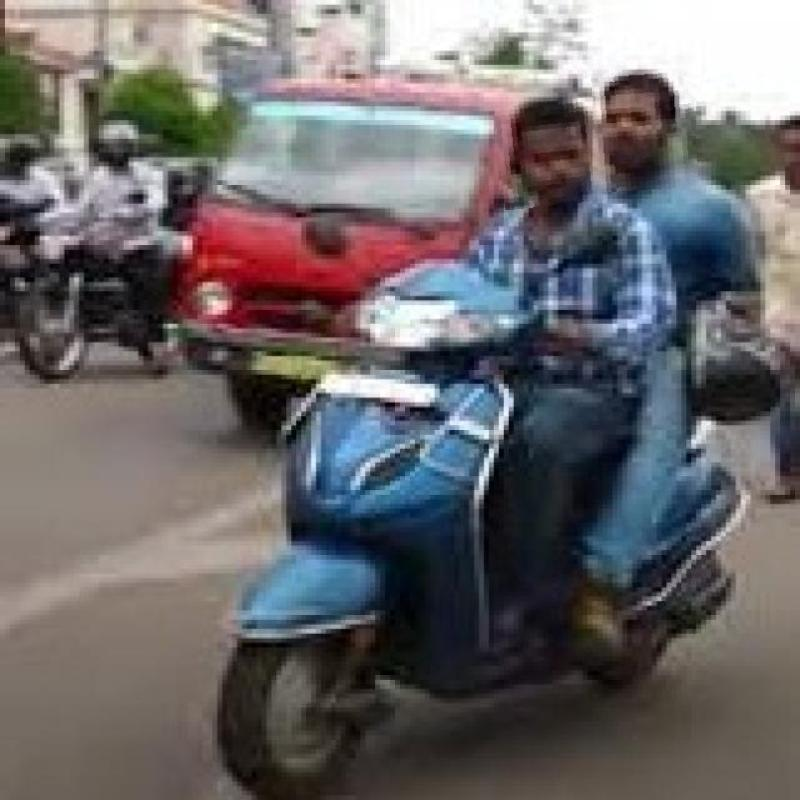nohelmet: (593, 68, 697, 190), (496, 100, 593, 208)
